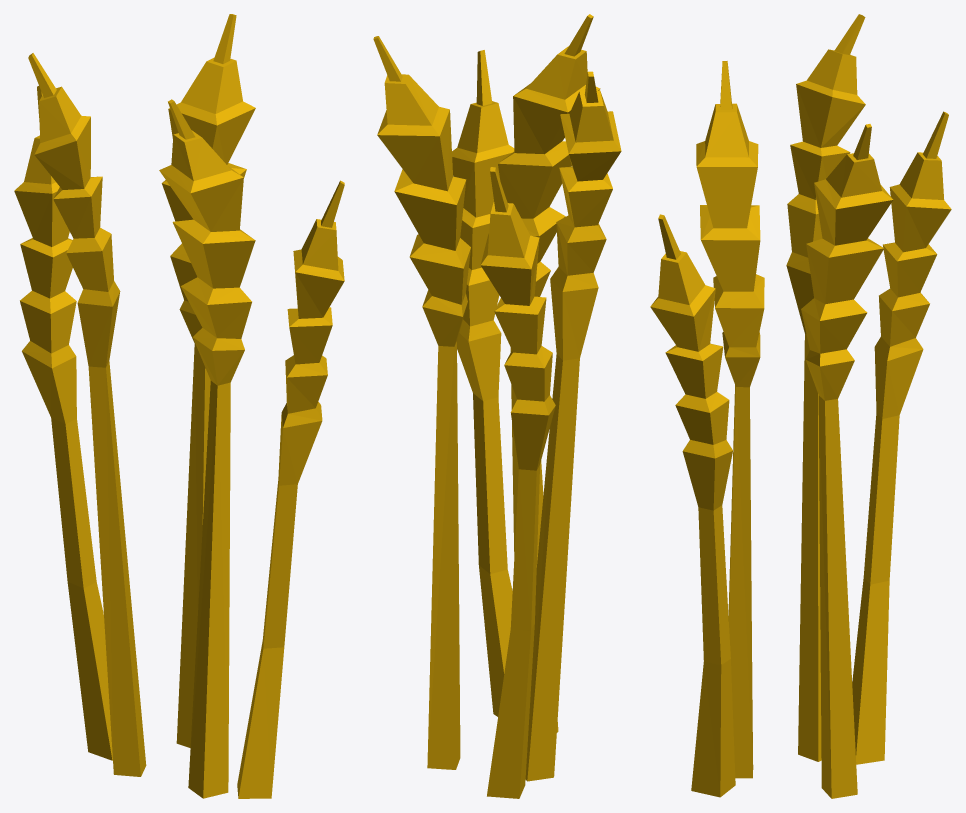
The model's file is Wheat_1.fbx.
3 views of the same model, side by side, from view 1: azimuth 30°, elevation 25°; view 2: azimuth 150°, elevation 25°; view 3: azimuth 270°, elevation 25° (orthographic). The views are drawn at different scales.
Parts seen in each view (by area): view 1: Wheat_1; view 2: Wheat_1; view 3: Wheat_1.
Boxes of the visible parts, <box> form: Wheat_1: <box>14,14,344,798</box>; Wheat_1: <box>373,14,621,798</box>; Wheat_1: <box>650,14,951,798</box>.
Bounding box in the file's own units: 0.9614 × 2.76 × 1.07.
